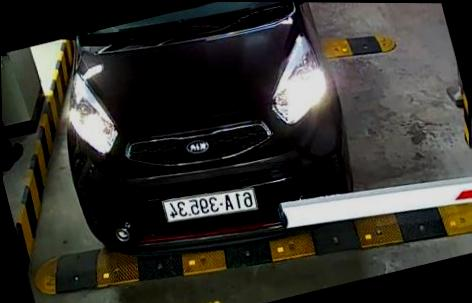License_Plate: (159, 184, 258, 233)
